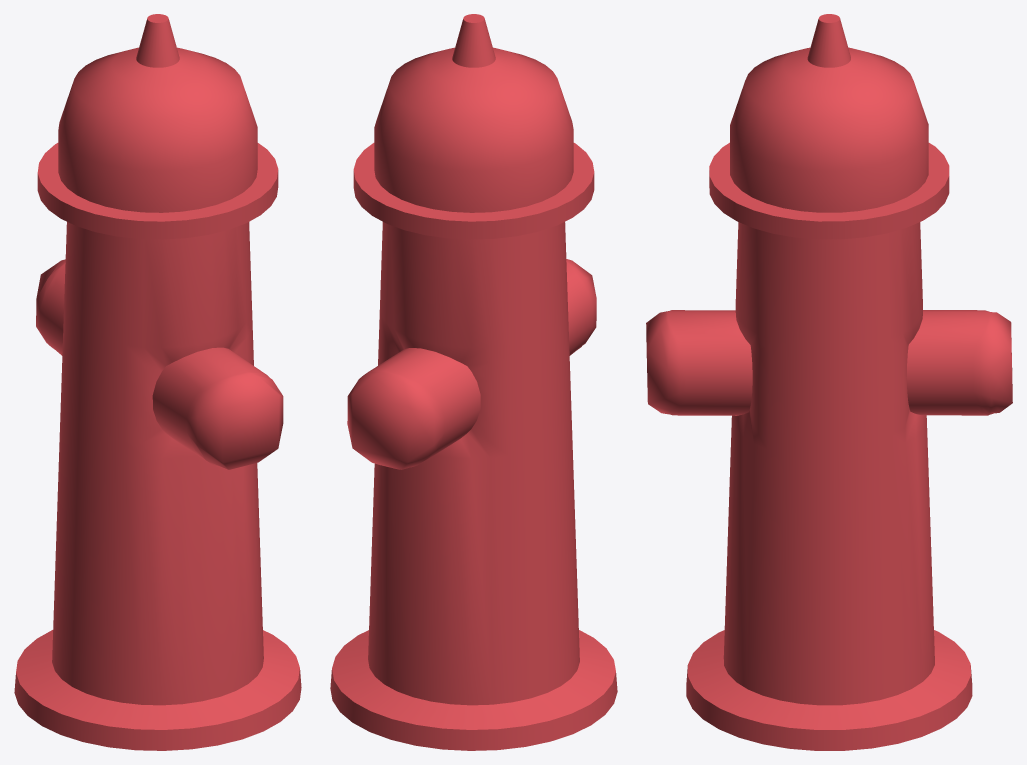
File: fire_truc.glb
3 renders of one model, left to right at view 1: azimuth 30°, elevation 25°; view 2: azimuth 150°, elevation 25°; view 3: azimuth 270°, elevation 25°, orthographic.
Parts seen in each view (by area): view 1: Cylinder.016; view 2: Cylinder.016; view 3: Cylinder.016.
Boxes of the visible parts, x1,y1,x2,y2 form: Cylinder.016: (14, 14, 301, 750); Cylinder.016: (330, 14, 617, 750); Cylinder.016: (646, 14, 1012, 750).
Size of the model in its own units: 1.67 by 4.33 by 2.14.
